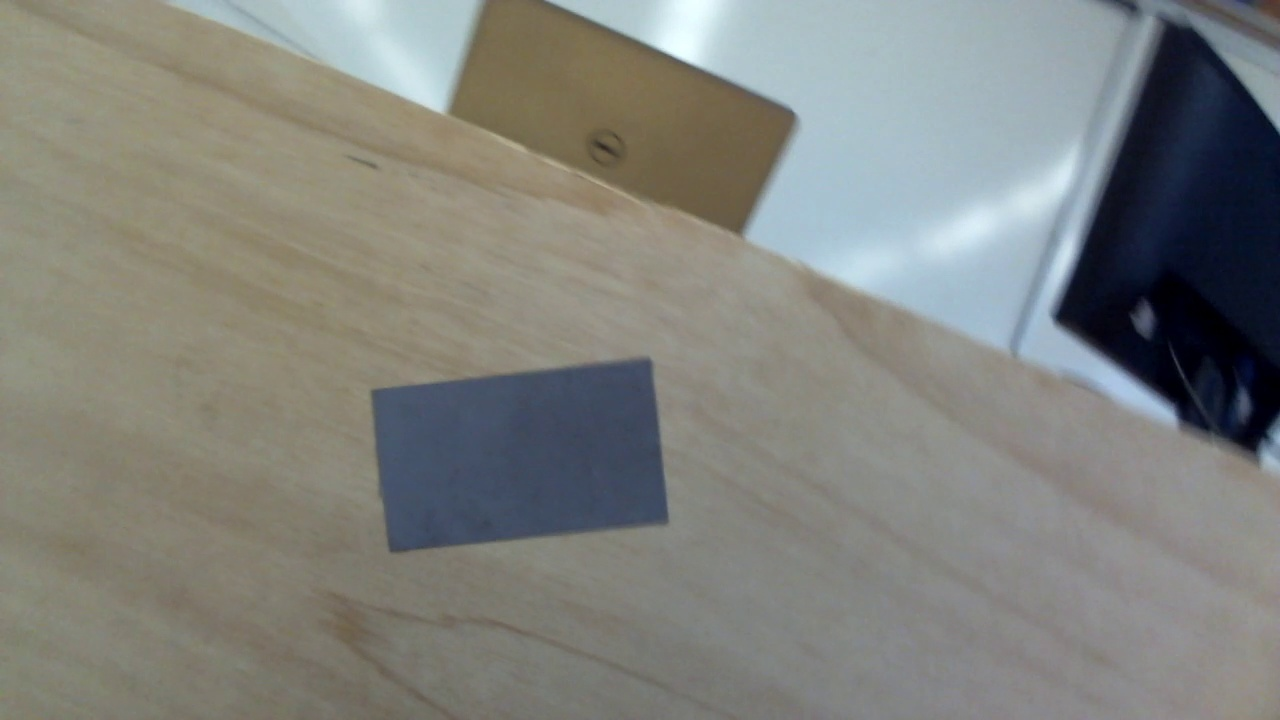Tape: (373, 360, 673, 553)
